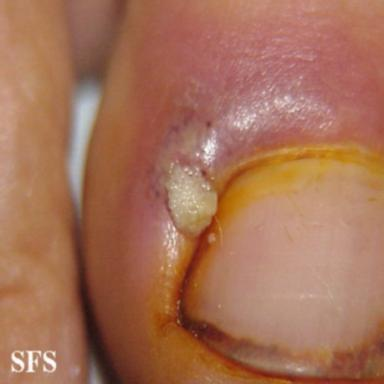Tungiasis: (155, 122, 217, 237)
